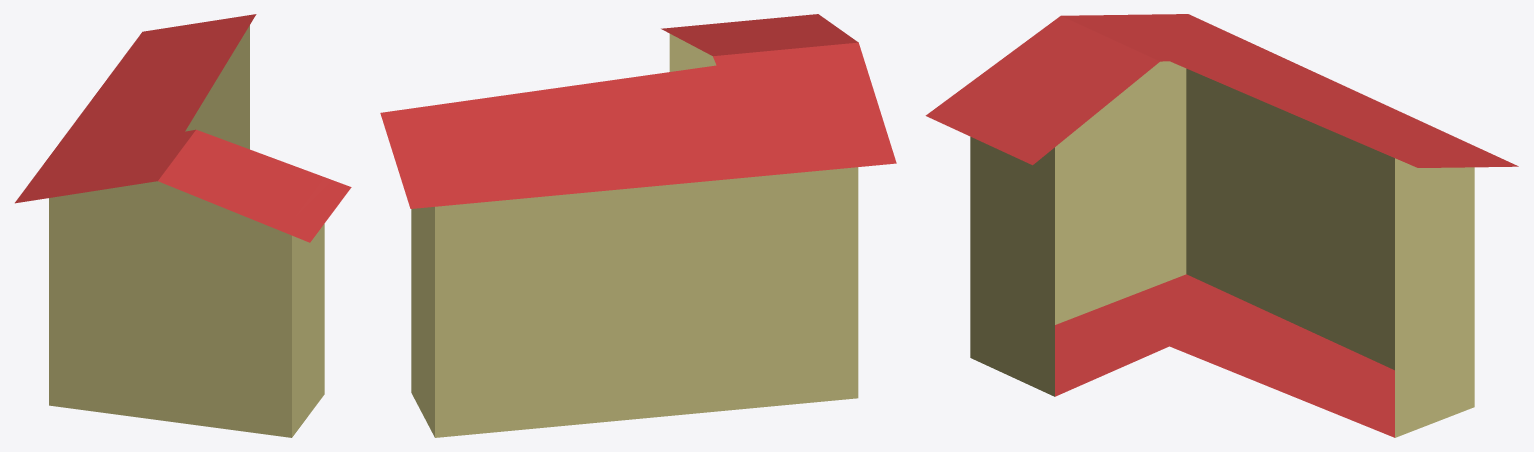
The picture shows the model from 3 angles, left to right: view 1: azimuth 30°, elevation 25°; view 2: azimuth 150°, elevation 25°; view 3: azimuth 270°, elevation 25°; orthographic projection. The views are drawn at different scales.
Visible parts, largest first — view 1: group_5, group_3, group_4; view 2: group_5, group_3, group_4; view 3: group_5, group_3, group_6, group_4.
Part boxes in pixels (x1,y1,x2,y2): group_5: (49,25,324,437); group_3: (15,14,351,242); group_4: (145,17,348,217); group_5: (411,34,858,437); group_3: (380,14,896,208); group_4: (383,23,772,207); group_5: (970,61,1474,437); group_3: (925,14,1518,167); group_6: (1055,274,1394,437); group_4: (976,111,1510,167).
Size of the model in its own units: 10.72 by 14.02 by 7.52.
